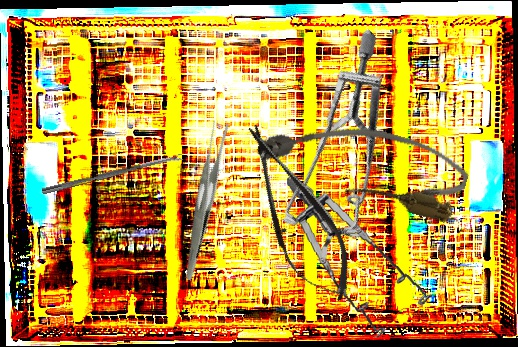Cannula: (252, 99, 474, 226)
Dressing Forceps: (138, 117, 268, 281)
Micro Scissor: (223, 112, 369, 315)
Speculum: (227, 28, 468, 268), (286, 163, 436, 345)
Surgical Spoon: (41, 153, 184, 196)
